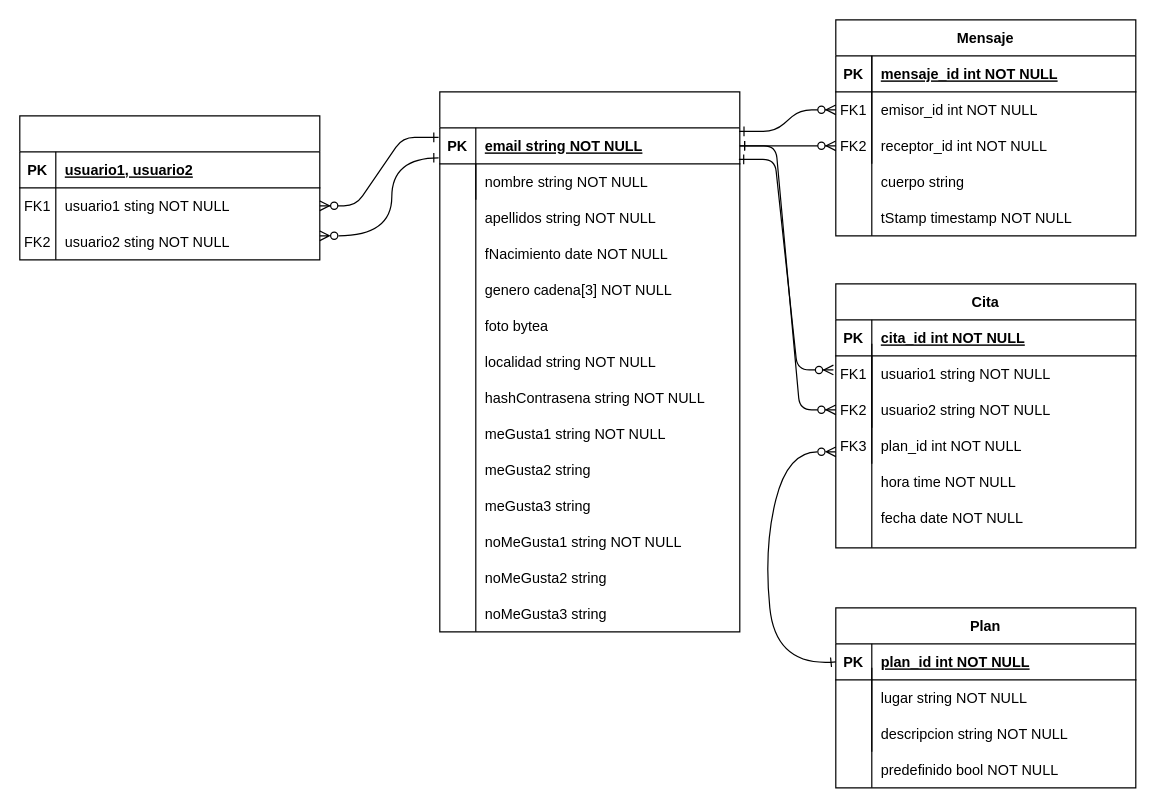
This 1156x808 diagram has some shape labels left out. The box of each missing label's shape, as (x1, y1, x2, y2) in pixels:
Match: (19, 115, 320, 260)
Usuario: (439, 91, 740, 632)
